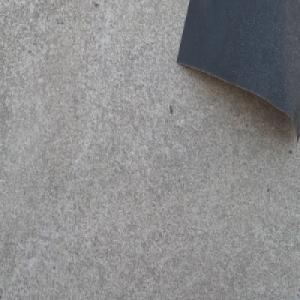PaintChip: (174, 0, 300, 144)
